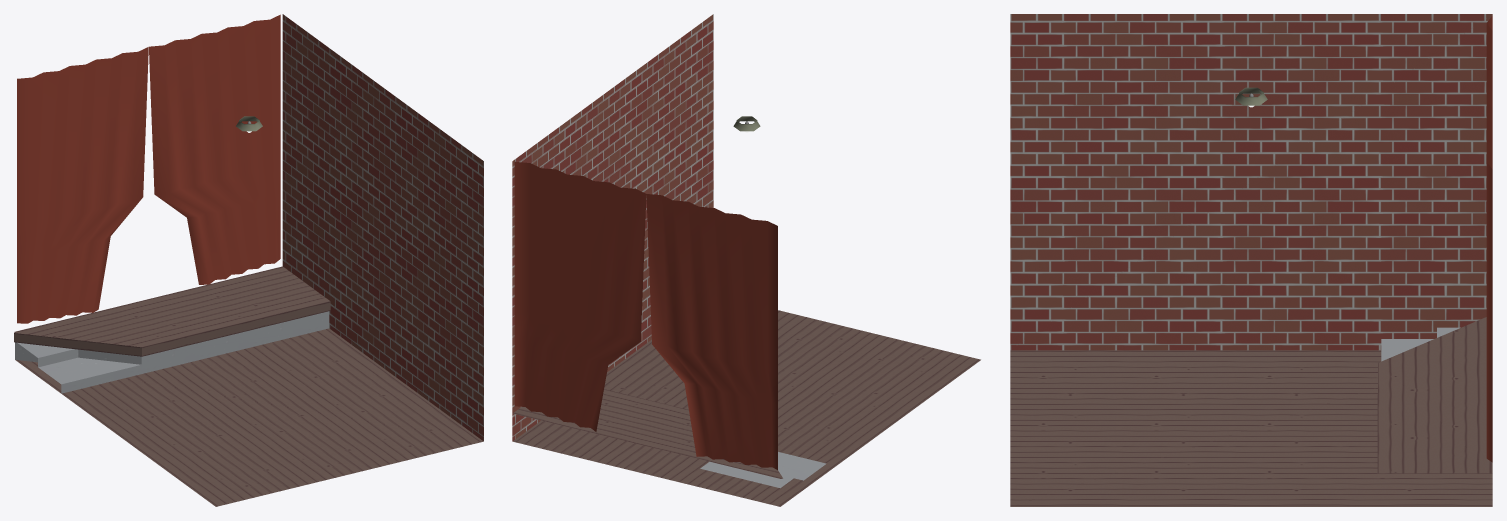
The model's file is stage.glb.
The picture shows the model from 3 angles, left to right: view 1: azimuth 30°, elevation 25°; view 2: azimuth 150°, elevation 25°; view 3: azimuth 270°, elevation 25°; orthographic projection. The views are drawn at different scales.
Visible parts, largest first — view 1: room, curtains, stage, stairs; view 2: curtains, room, stage, stairs; view 3: room, stage, curtains, stairs.
Boxes of the visible parts, x1,y1,x2,y2 form: room: [15, 14, 483, 506]; curtains: [17, 14, 280, 323]; stage: [14, 266, 330, 373]; stairs: [17, 342, 141, 393]; curtains: [514, 161, 777, 470]; room: [512, 14, 980, 506]; stage: [513, 389, 782, 478]; stairs: [700, 452, 826, 488]; room: [1010, 14, 1492, 506]; stage: [1377, 317, 1492, 473]; curtains: [1486, 16, 1492, 462]; stairs: [1381, 327, 1460, 361].
Size of the model in its own units: 2.01 by 2 by 2.6.
7 materials, 3 textured.
